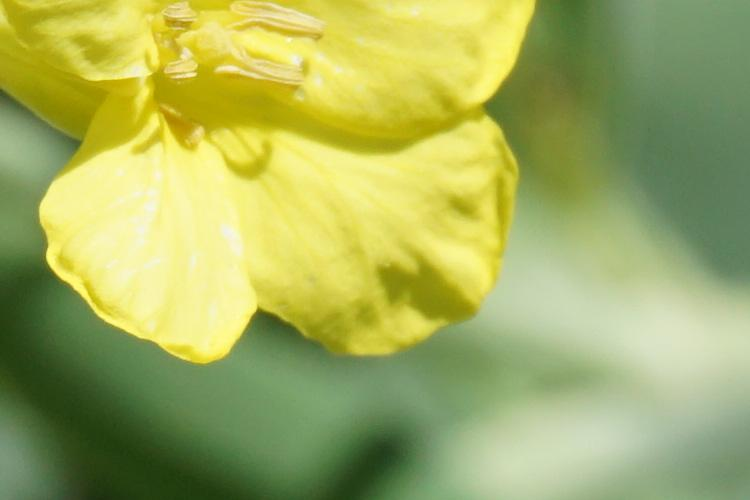yellow: (14, 5, 554, 382)
